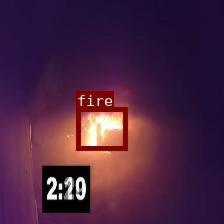fire: (75, 106, 127, 150)
